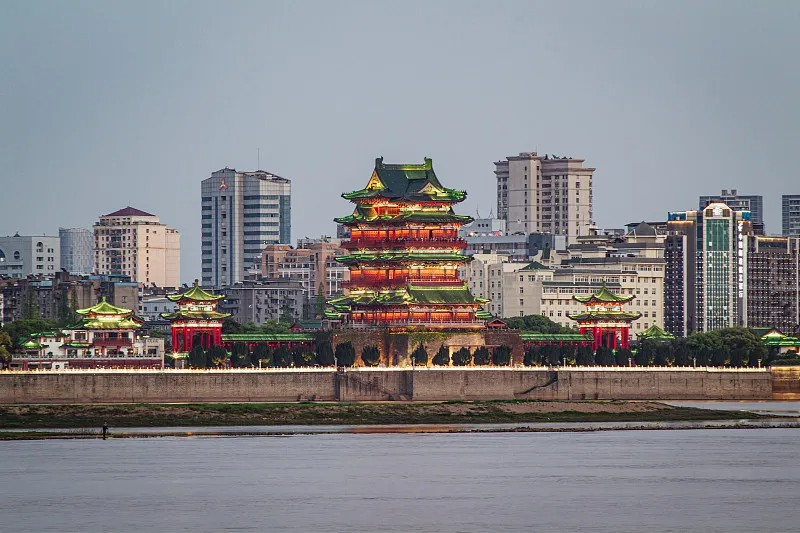Teng: (321, 157, 494, 327)
